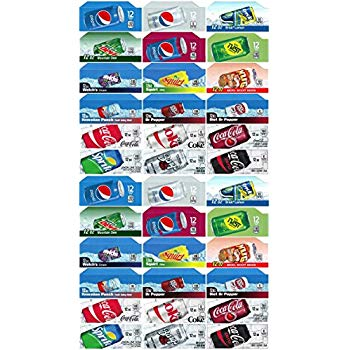pepsi: (93, 8, 110, 26), (93, 182, 110, 199), (157, 40, 173, 58), (157, 10, 174, 25), (157, 215, 172, 232), (158, 183, 173, 199)
